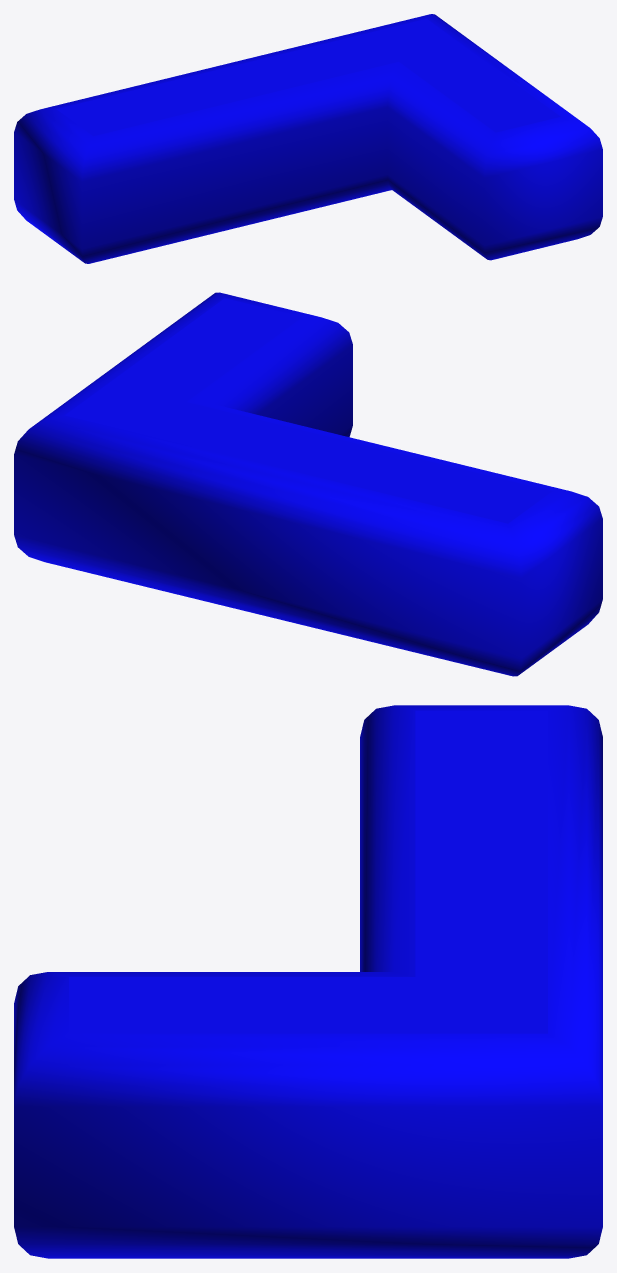
3 views of the same model, one above another, from view 1: azimuth 30°, elevation 25°; view 2: azimuth 150°, elevation 25°; view 3: azimuth 270°, elevation 25° (orthographic). The views are drawn at different scales.
Parts seen in each view (by area): view 1: texto; view 2: texto; view 3: texto.
Part boxes in pixels (left/top/right/bottom): texto: left=14, top=14, right=602, bottom=263; texto: left=14, top=292, right=602, bottom=676; texto: left=14, top=705, right=602, bottom=1258.
Bounding box in the file's own units: 0.7942 × 0.22 × 0.5346.
